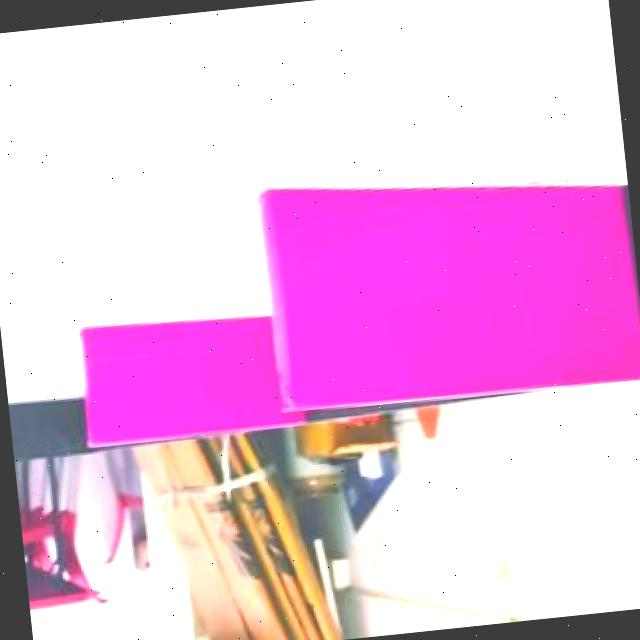xparking: (263, 164, 640, 410), (75, 314, 279, 450)
